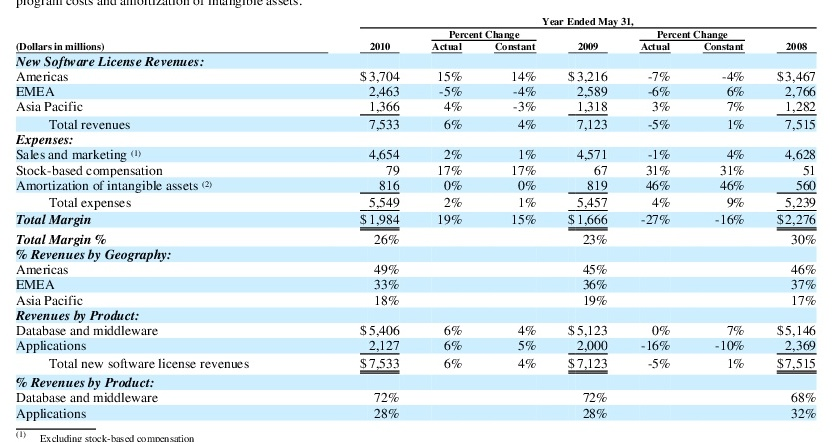table: (0, 0, 834, 442)
